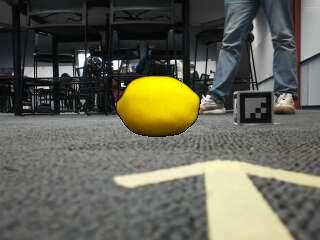lemon: (117, 76, 199, 136)
